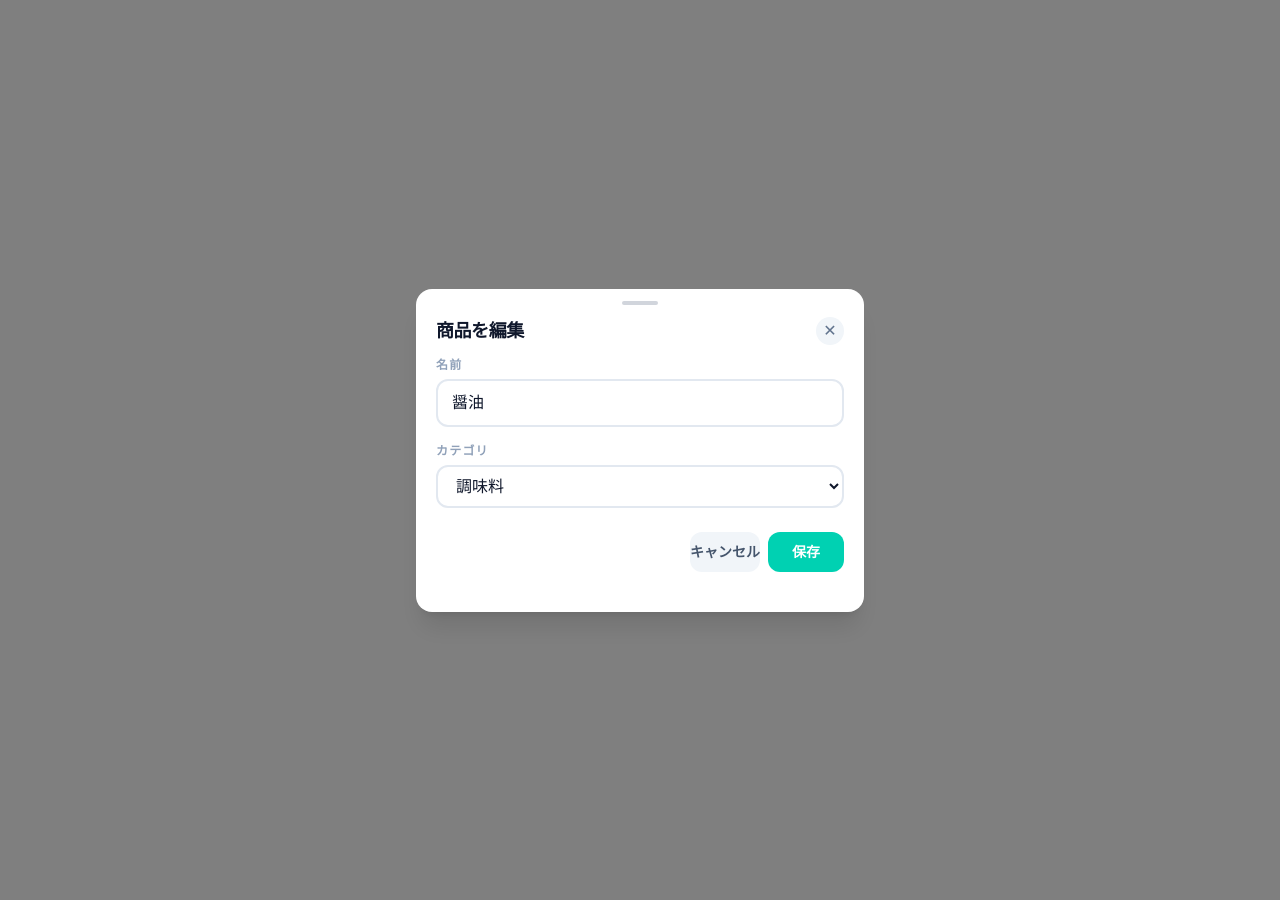
Test case: EditItemModal › 名前が空のとき送信ボタンが disabled
Clear the field labelled "名前" at (640, 402), box x1=436 y1=378 x2=844 y2=426
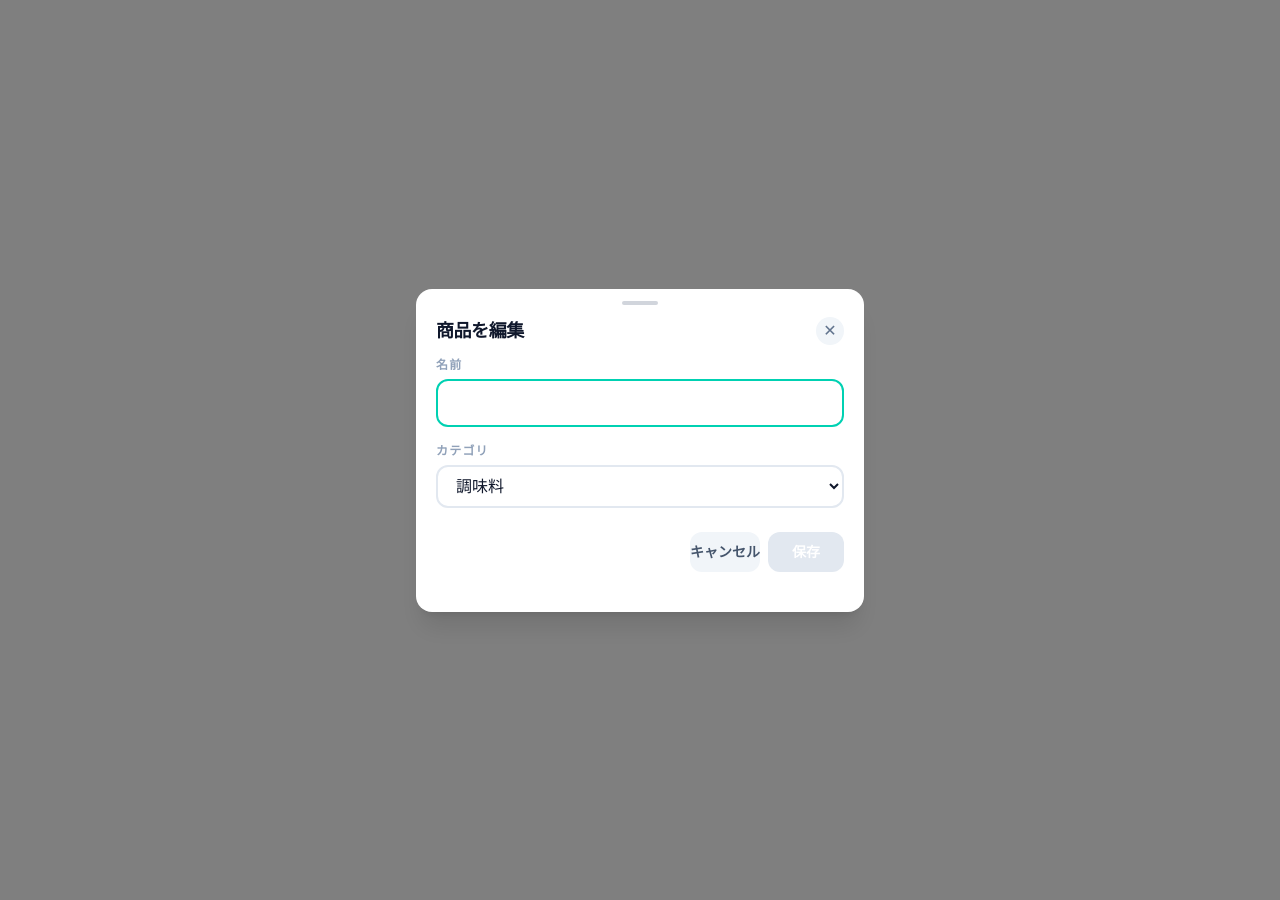
Check: the button "保存" is disabled, box x1=768 y1=532 x2=844 y2=572
